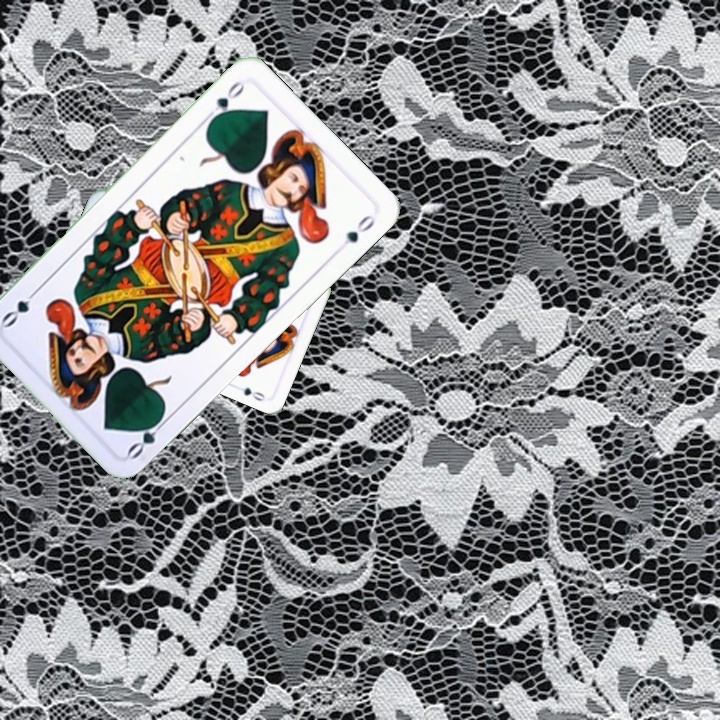GO: (123, 410, 172, 462), (201, 77, 248, 126)
